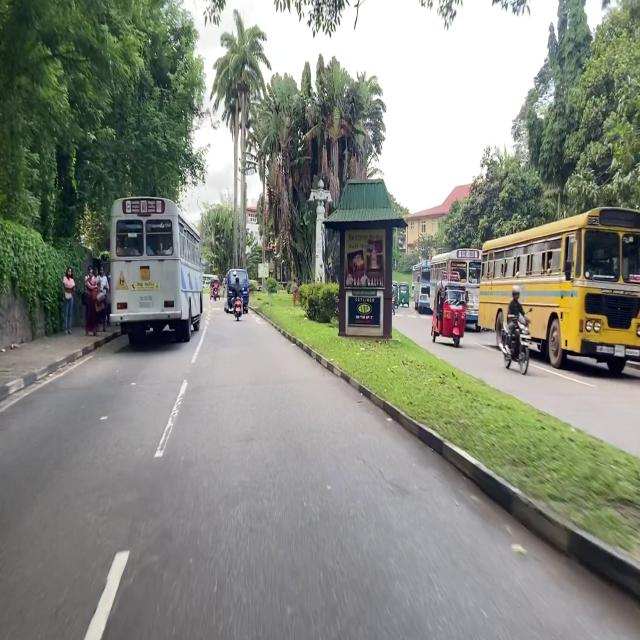bus: (480, 206, 640, 374), (111, 197, 203, 343), (430, 248, 481, 332), (412, 260, 431, 313)
motorcycle: (500, 309, 531, 375), (234, 297, 242, 320), (214, 289, 217, 300)
person: (507, 285, 524, 354), (85, 268, 98, 337), (63, 268, 75, 334), (97, 267, 109, 332), (105, 267, 111, 325), (233, 275, 242, 298), (213, 281, 218, 288)
three wheeler: (431, 281, 466, 347), (398, 282, 408, 306), (210, 275, 220, 298), (392, 283, 398, 310)
van: (224, 268, 249, 313)
